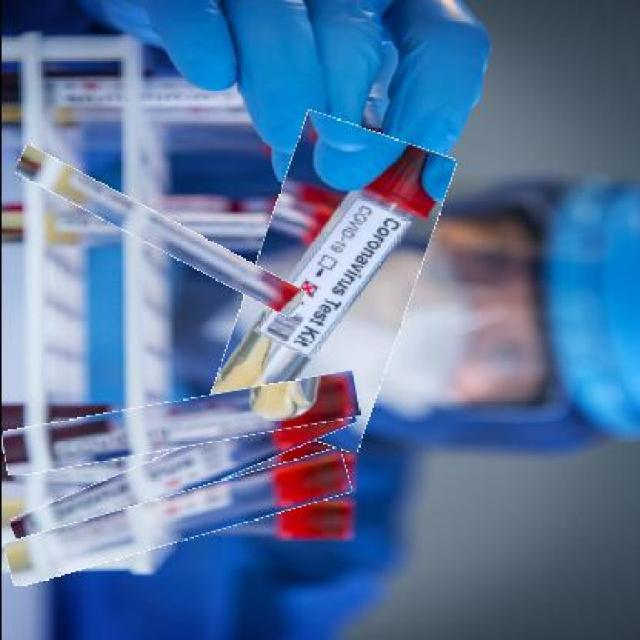Experimental-tube: (230, 118, 432, 445), (4, 414, 358, 528), (1, 470, 352, 564), (6, 181, 309, 282), (0, 386, 358, 462)
